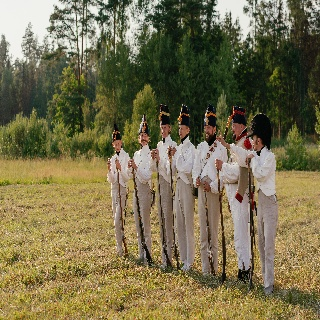rifle: (130, 157, 154, 264), (153, 151, 174, 268), (166, 152, 182, 272), (214, 158, 229, 284), (243, 156, 257, 291), (199, 180, 217, 280), (114, 155, 131, 258)
